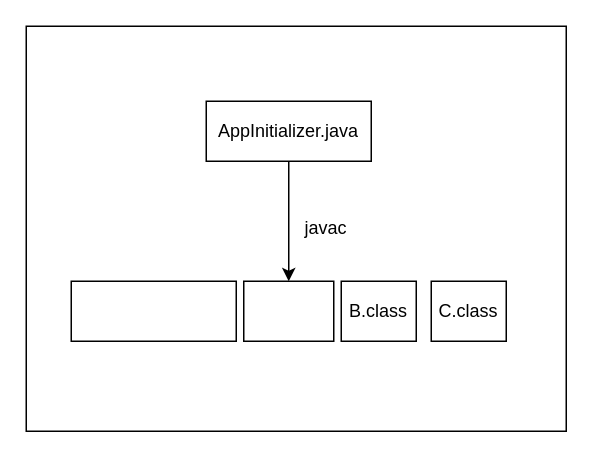
Some shapes in this 593 by 458 pixel diagram are drawn without their labels. Here are the shapes that lost their labels. From the top down, the centre of each, then its label:
At pixel 153 310: "AppInitializer.class".
At pixel 288 310: "A.class".
